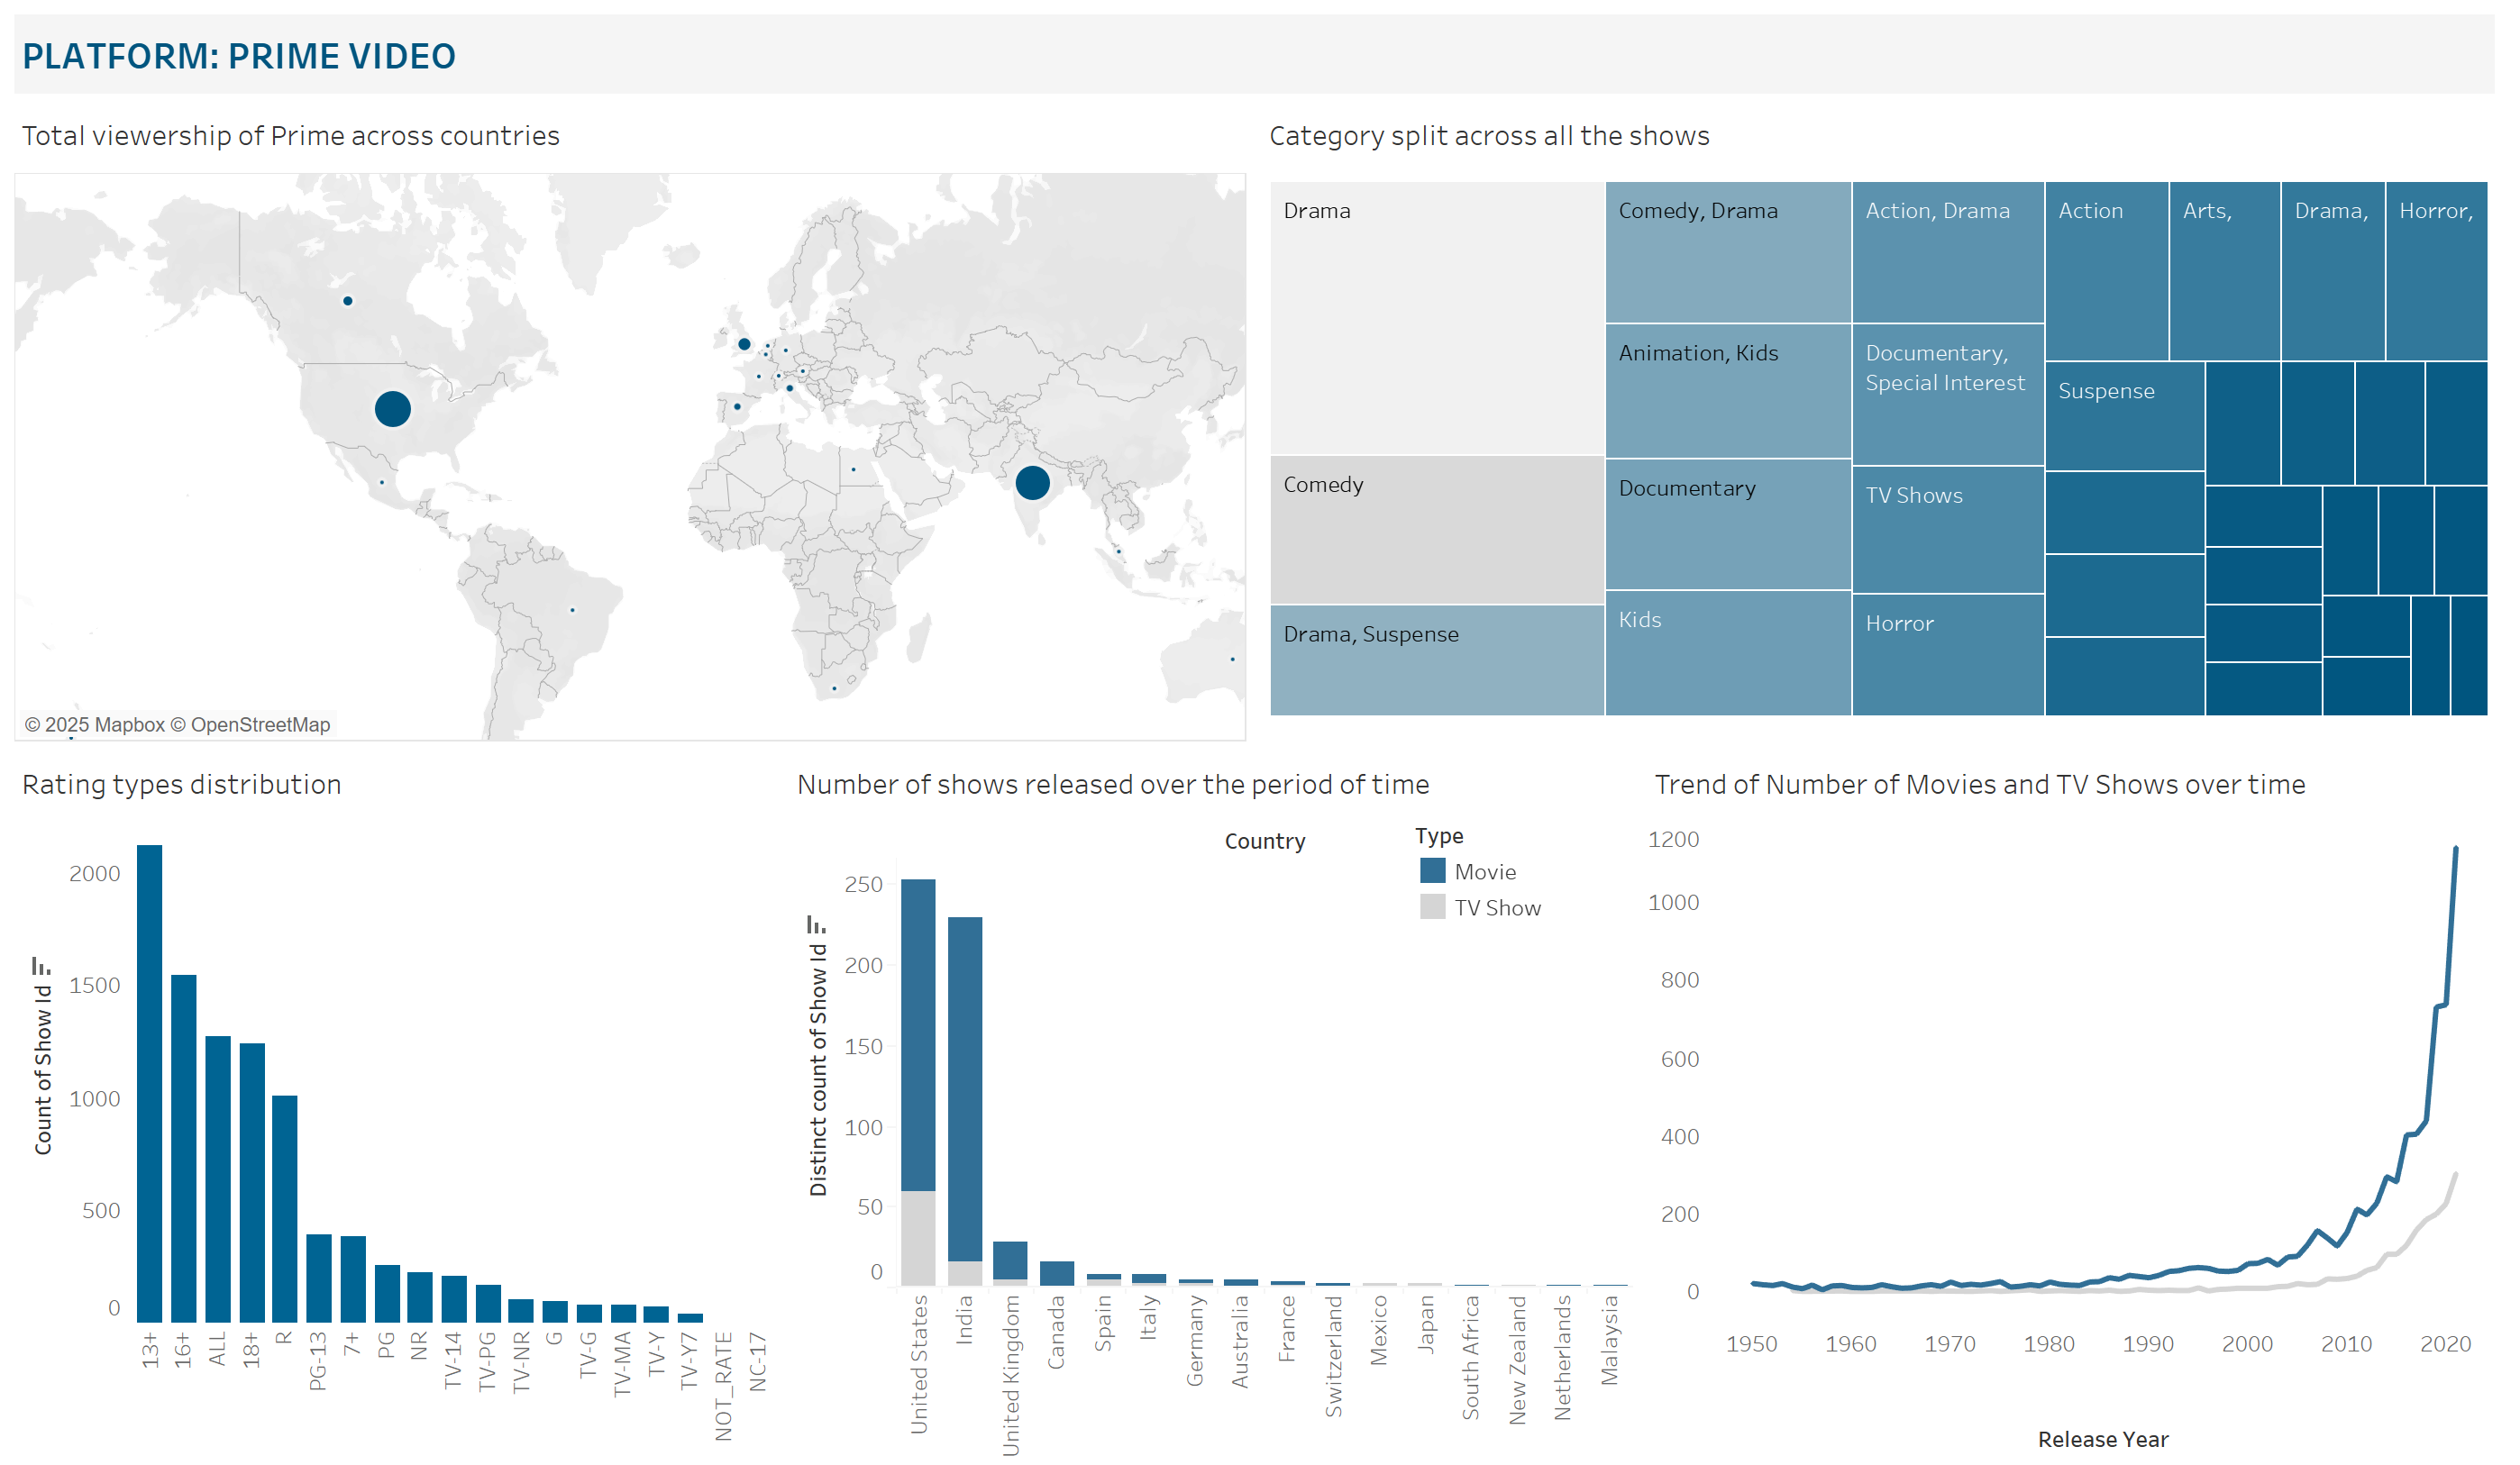

The dashboard page shown, as its layout file describes it:
{"tool":"tableau","page":{"name":"Prime Video","canvas":[1000,1000],"units":"permille","ordinal":1},"visuals":[{"type":"worksheet","title":"AP","mark":"Automatic","box":[5.7,10,988.6,63.2]},{"type":"worksheet","title":"AP-1","mark":"Automatic","box":[5.7,73.2,494.3,433]},{"type":"worksheet","title":"AP-3","mark":"Automatic","box":[500,73.2,494.3,433]},{"type":"worksheet","title":"AP-4","mark":"Automatic","rows":["show_id"],"cols":["rating"],"box":[5.7,506.2,307.1,483.8]},{"type":"worksheet","title":"AP-5","mark":"Automatic","rows":["show_id"],"cols":["country"],"box":[312.9,506.2,340,483.8]},{"type":"worksheet","title":"AP-2","mark":"Automatic","rows":["show_id"],"cols":["release_year"],"box":[652.9,506.2,341.4,483.8]},{"type":"legend","title":"AP-5","param":"[federated.1jdg4ax12juw1v19i9ylu0v9o7ks].[none:type:nk]","box":[563.6,552.5,62.9,72.5]}]}

Visuals, with their boxes on the dashboard's canvas, which has no fixed pixel size, in thousandths of its width and height (x1, y1, x2, y2). These are canvas units, not pixel positions in the 2520x1465 screenshot, which may show the page scaled, cropped or inside an application window:
"AP" worksheet: (x1=6, y1=10, x2=994, y2=73)
"AP-1" worksheet: (x1=6, y1=73, x2=500, y2=506)
"AP-3" worksheet: (x1=500, y1=73, x2=994, y2=506)
"AP-4" worksheet: (x1=6, y1=506, x2=313, y2=990)
"AP-5" worksheet: (x1=313, y1=506, x2=653, y2=990)
"AP-2" worksheet: (x1=653, y1=506, x2=994, y2=990)
"AP-5" legend: (x1=564, y1=552, x2=626, y2=625)
